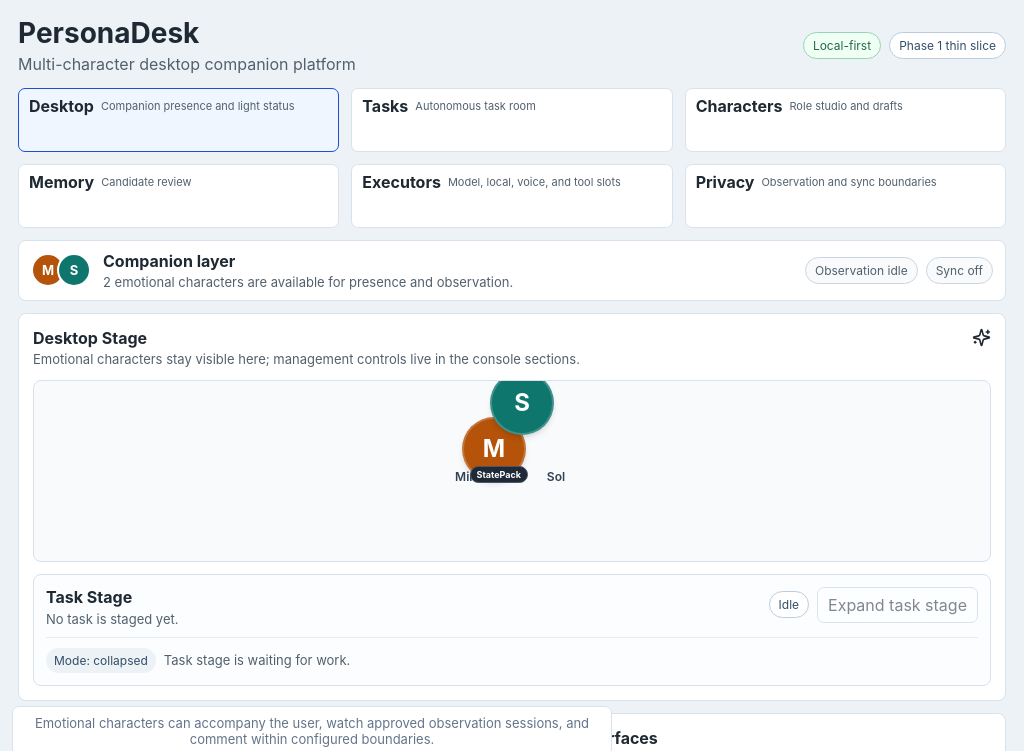
PersonaDesk app › plays TTS preview text through local browser speech synthesis when available
Click the button "Executors Model, local, voice, and tool slots": (402, 182) [351, 164, 673, 228]
(page scrolled)
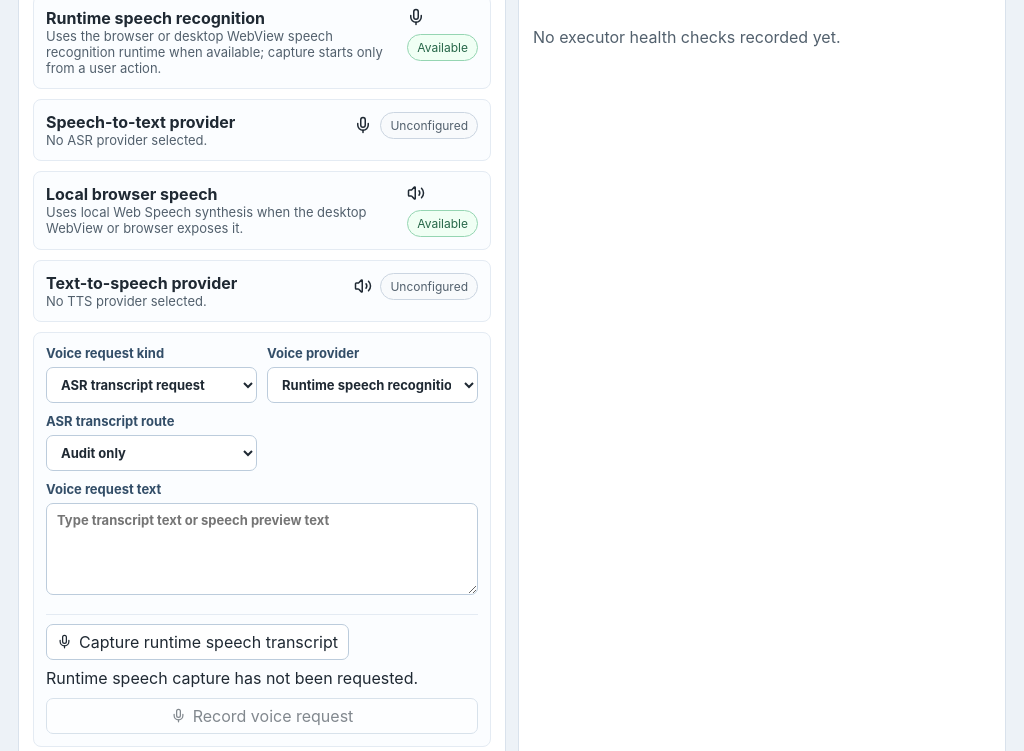
Select "TTS preview request" in the dropdown labelled "Voice request kind": (152, 385) [46, 367, 257, 403]
(page scrolled)
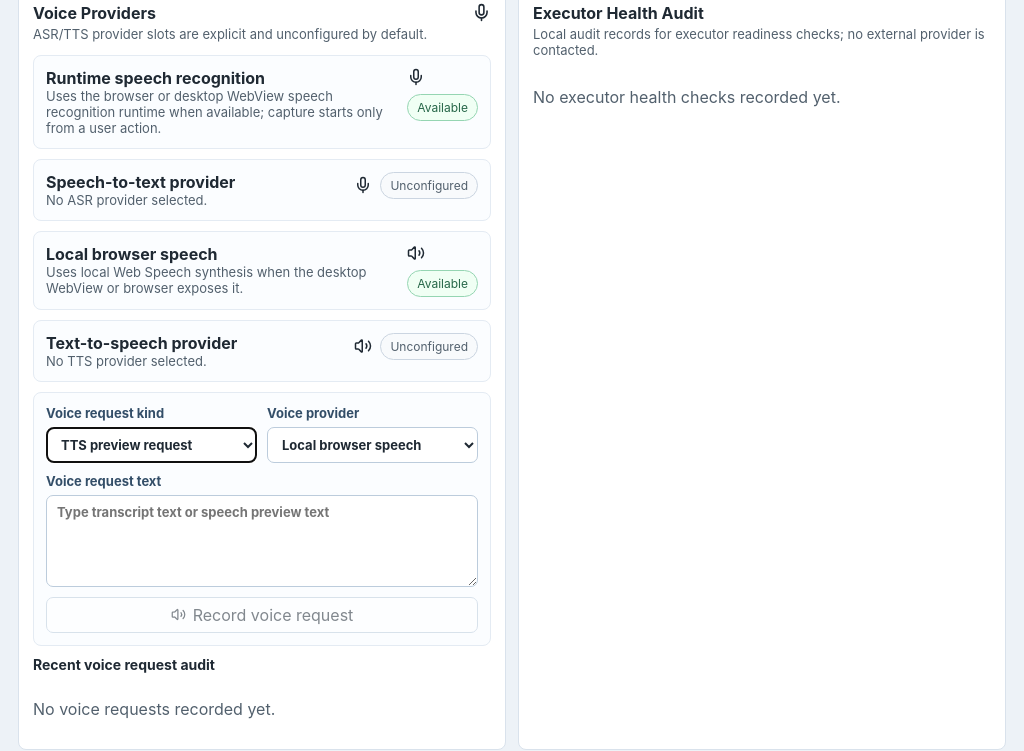
Now the dropdown labelled "Voice provider" shows "Local browser speech", box [267, 427, 478, 463]
In the text box labelled "Voice request text": (262, 541) [46, 495, 478, 587], type "Read this through local speech."
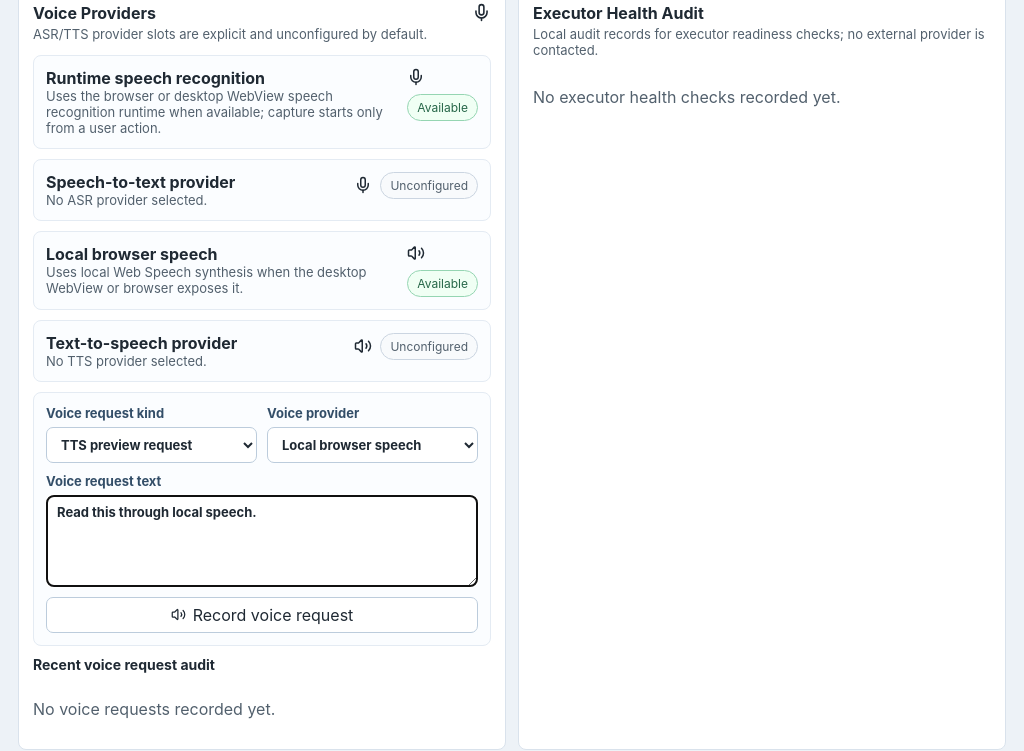
Click the button "Record voice request": (262, 615) [46, 597, 478, 633]
(page scrolled)
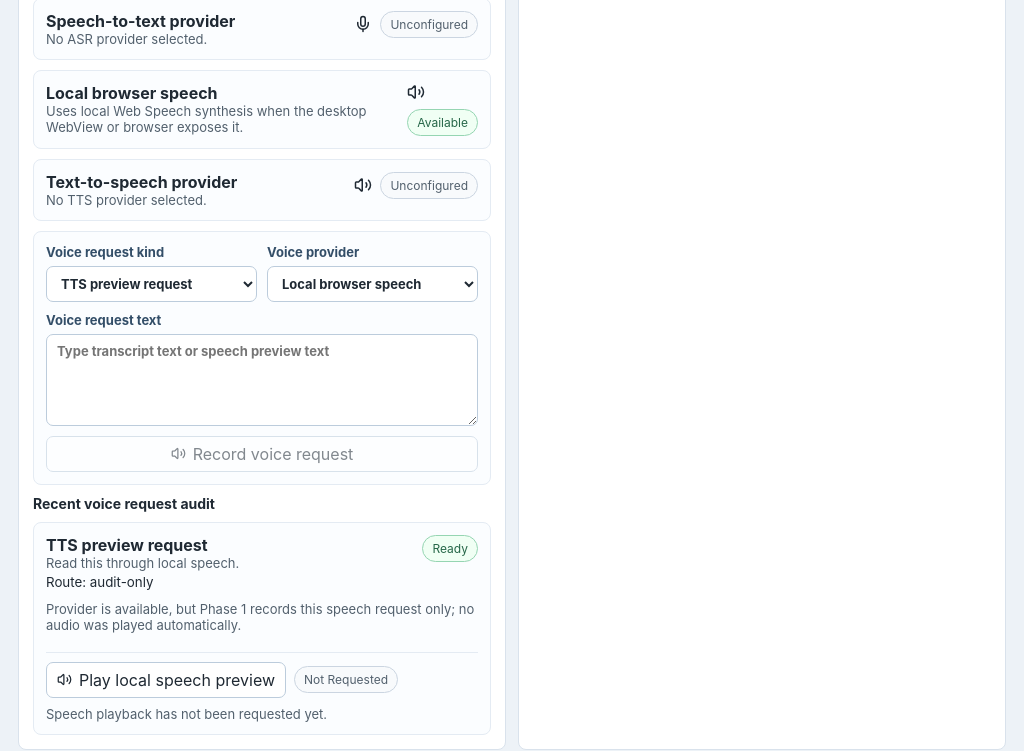
Now the text "Read this through local speech." is shown, box [46, 555, 239, 571]
Now the text "Not Requested" is shown, box [294, 666, 398, 693]
Click the button "Play local speech preview": (166, 680) [46, 662, 286, 698]
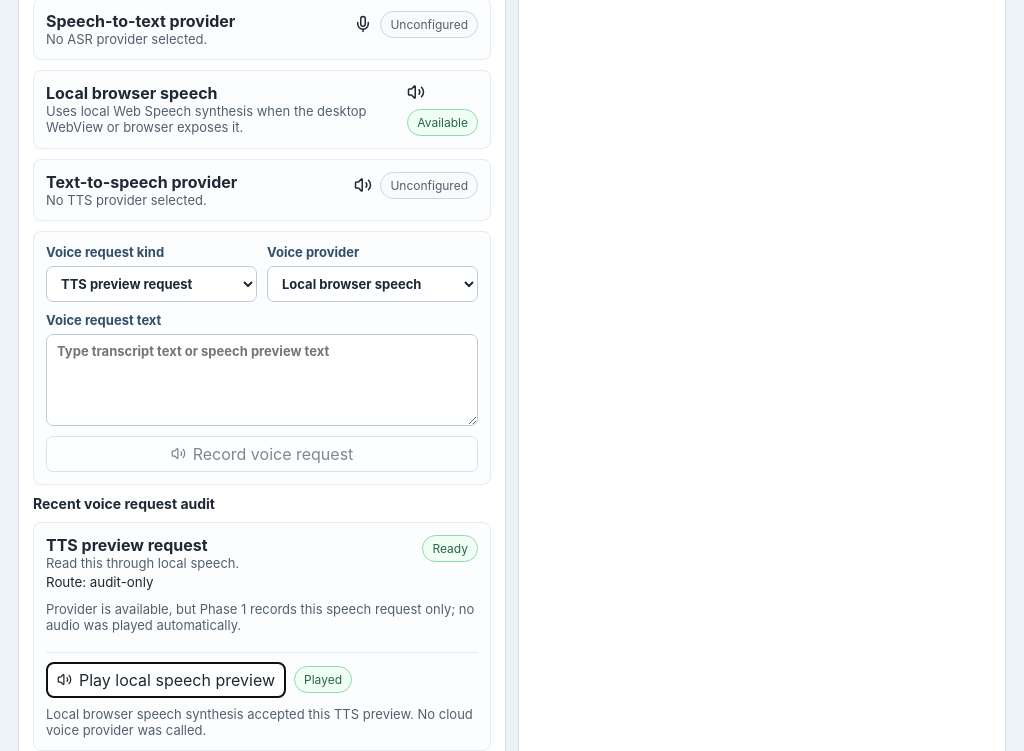
Now the text "Played" is shown, box [294, 666, 352, 693]
Now the text "No cloud voice provider was called" is shown, box [46, 706, 473, 738]
